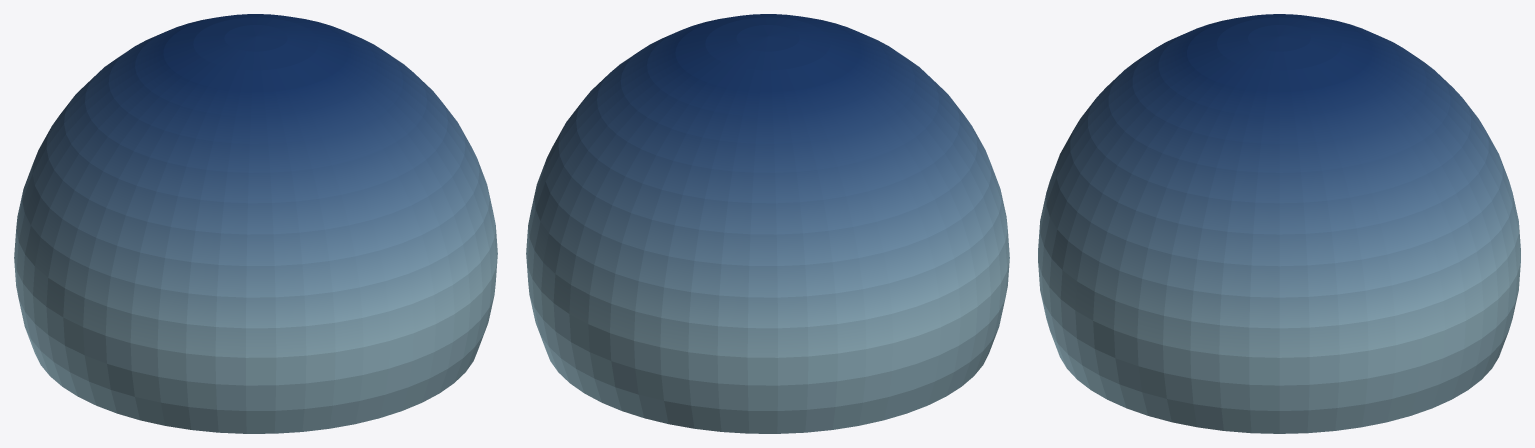
The model's file is Dome_130x130.fbx.
3 views of the same model, side by side, from view 1: azimuth 30°, elevation 25°; view 2: azimuth 150°, elevation 25°; view 3: azimuth 270°, elevation 25° (orthographic).
Visible parts, largest first — view 1: neutrality_stability1; view 2: neutrality_stability1; view 3: neutrality_stability1.
Part boxes in pixels (x1,y1,x2,y2): neutrality_stability1: [14, 14, 497, 433]; neutrality_stability1: [526, 14, 1009, 433]; neutrality_stability1: [1038, 14, 1520, 433].
Bounding box in the file's own units: 258 × 178 × 257.
